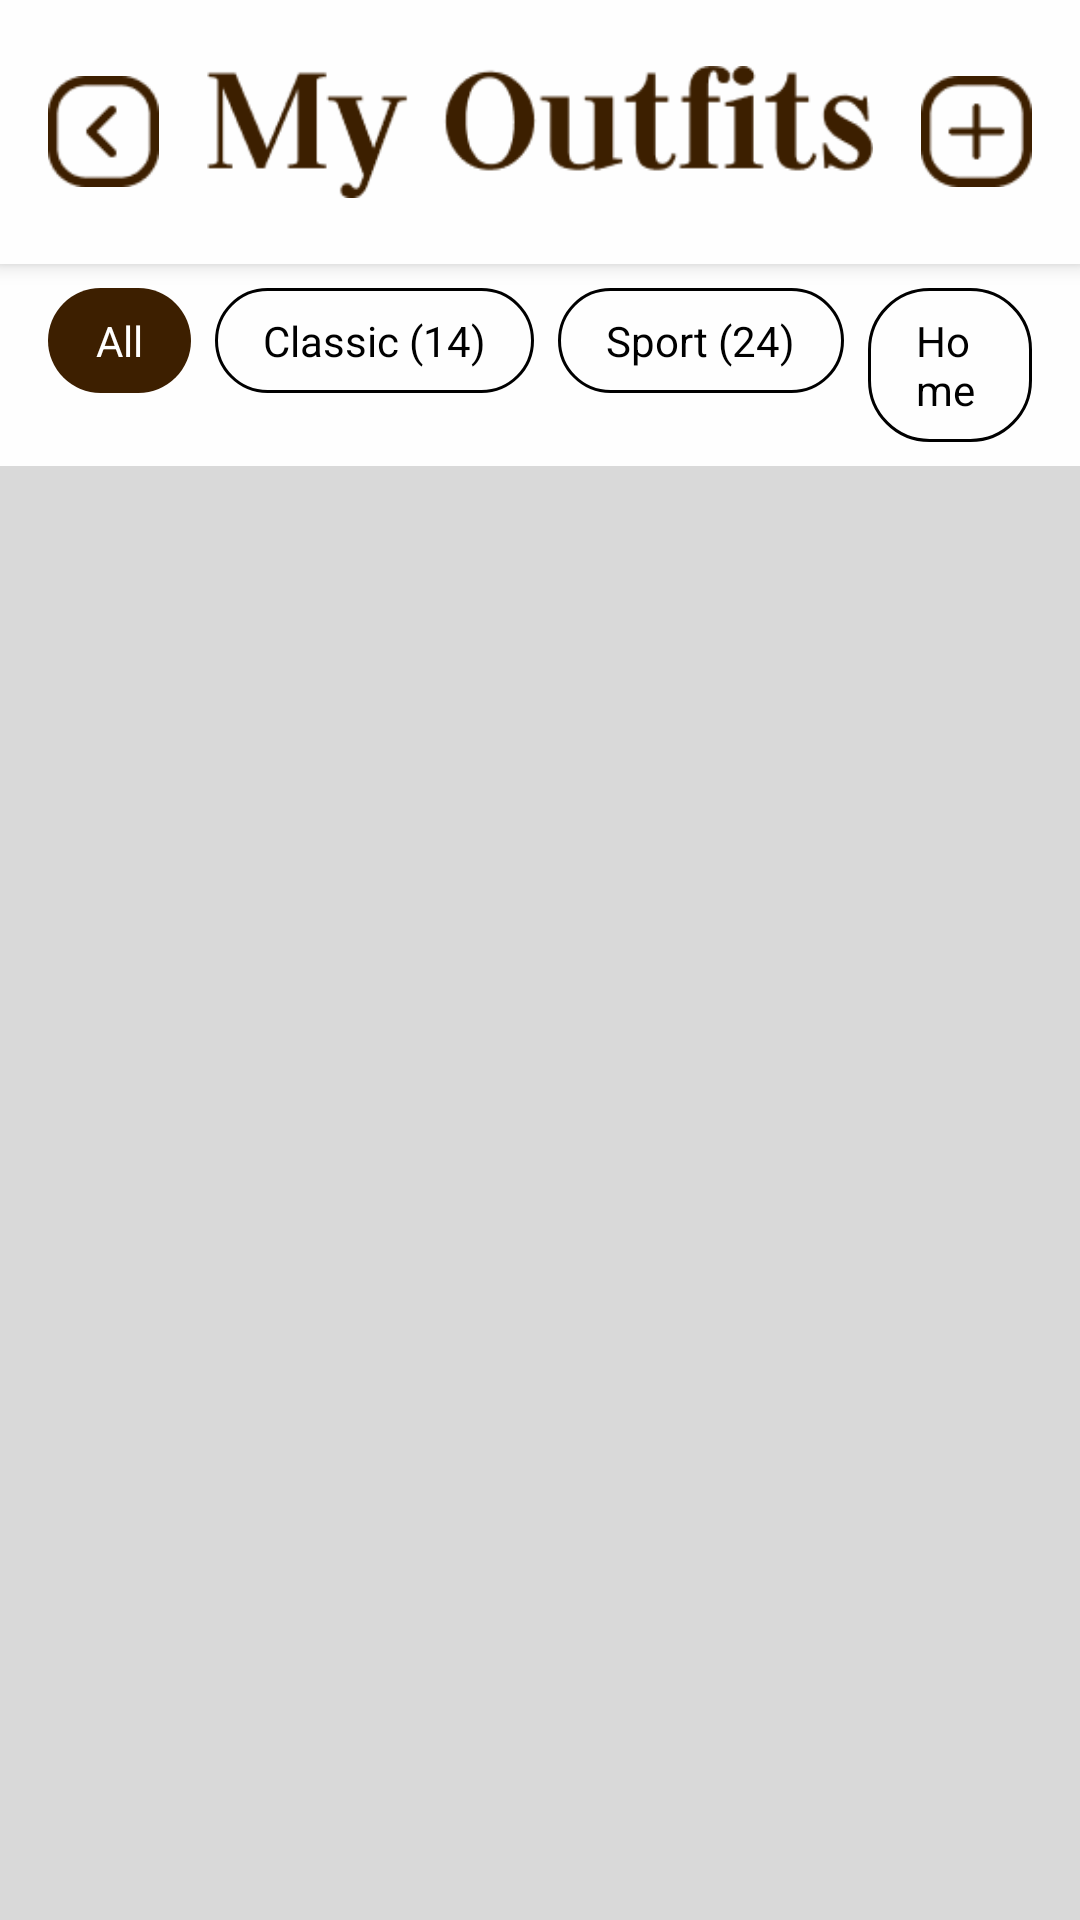

Icons on this 1080px×1920px Android screen, each with the point to tap as point (x, y):
Create Outfit: point (976, 131)
